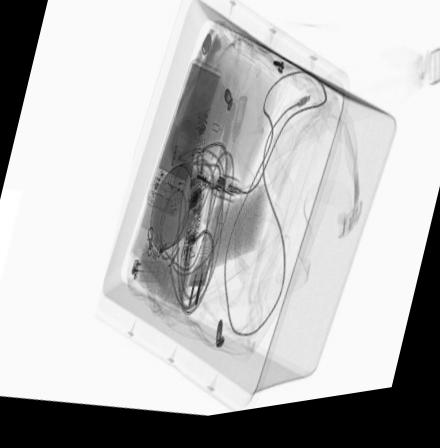Powerbank: (145, 66, 222, 224)
